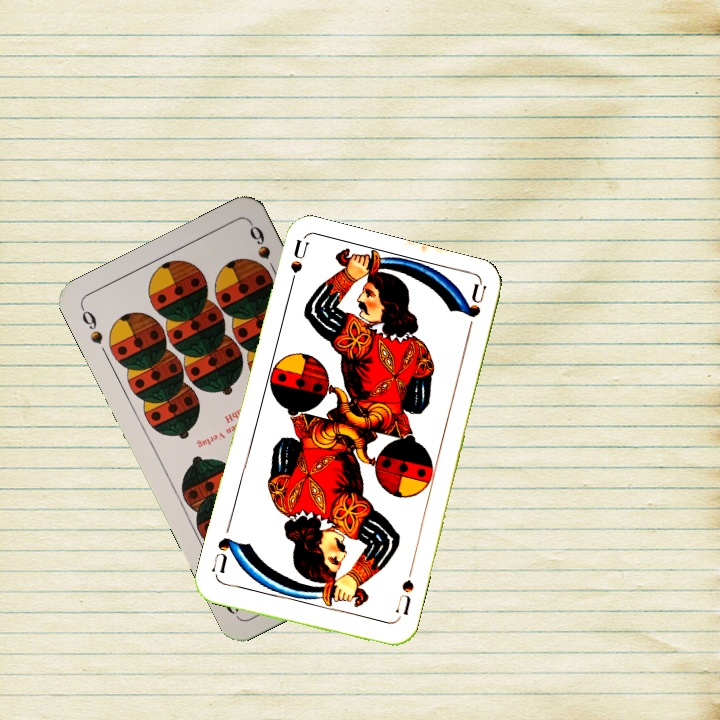S9: (77, 303, 106, 347)
SU: (284, 237, 311, 297), (391, 575, 417, 624)
